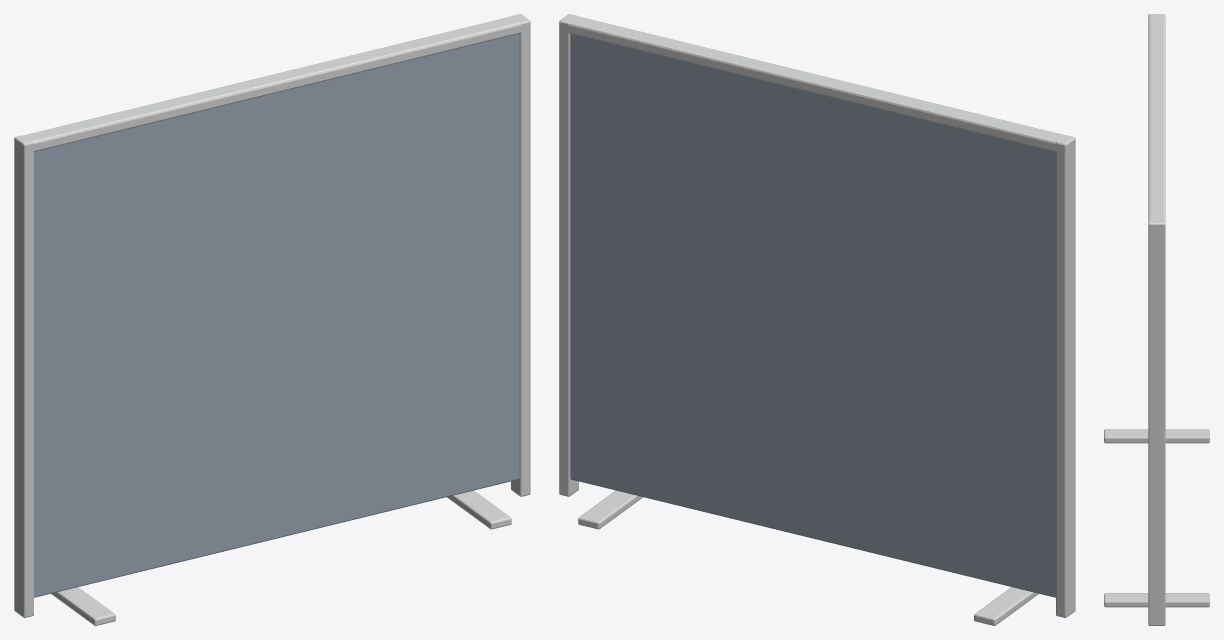
Rendered from cubicle_partition.fbx.
3 renders of one model, left to right at view 1: azimuth 30°, elevation 25°; view 2: azimuth 150°, elevation 25°; view 3: azimuth 270°, elevation 25°, orthographic. The views are drawn at different scales.
Parts seen in each view (by area): view 1: cubicle_partition; view 2: cubicle_partition; view 3: cubicle_partition.
Part boxes in pixels (bbox=[...]): cubicle_partition: bbox=[14, 14, 530, 625]; cubicle_partition: bbox=[559, 14, 1075, 625]; cubicle_partition: bbox=[1104, 14, 1209, 625].
Size of the model in its own units: 1.41 by 1.26 by 0.3.
